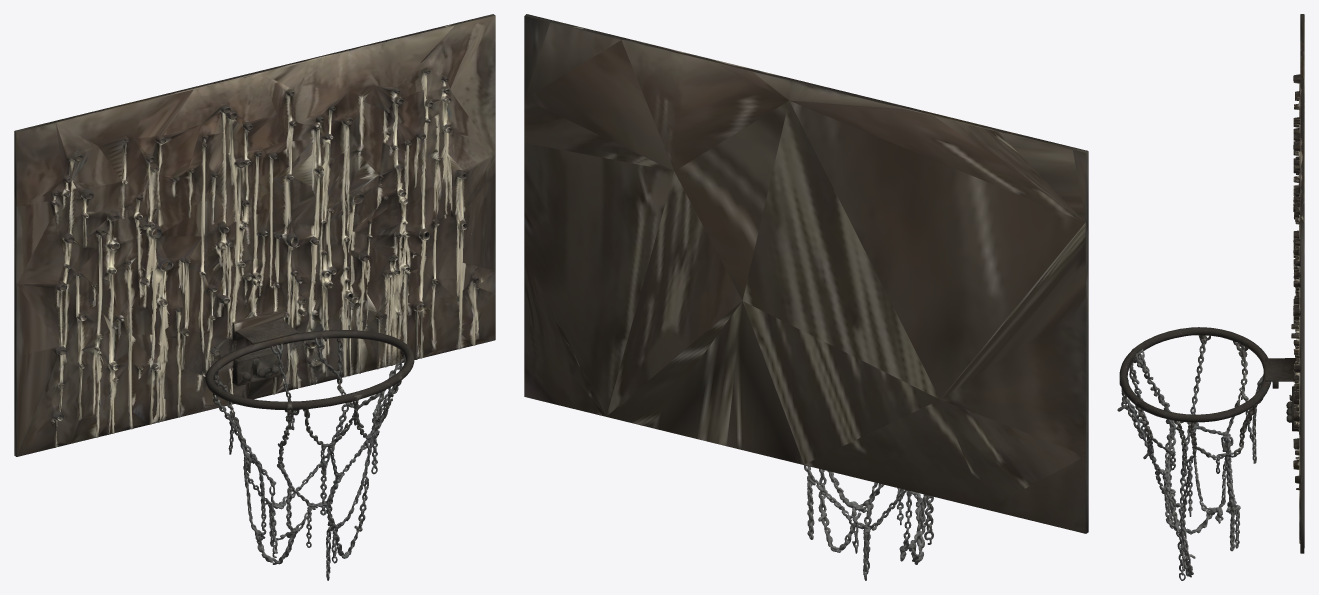
Rendered from scars-of-the-game.glb.
3 views of the same model, side by side, from view 1: azimuth 30°, elevation 25°; view 2: azimuth 150°, elevation 25°; view 3: azimuth 270°, elevation 25° (orthographic). The views are drawn at different scales.
Parts seen in each view (by area): view 1: Mesh_0; view 2: Mesh_0; view 3: Mesh_0.
Part boxes in pixels (x1=…): Mesh_0: x1=14, y1=14, x2=495, y2=580; Mesh_0: x1=524, y1=14, x2=1088, y2=580; Mesh_0: x1=1117, y1=14, x2=1304, y2=580.
Bounding box in the file's own units: 1.6 × 1.48 × 0.5599.
Materials: 1 (1 with a texture image).
